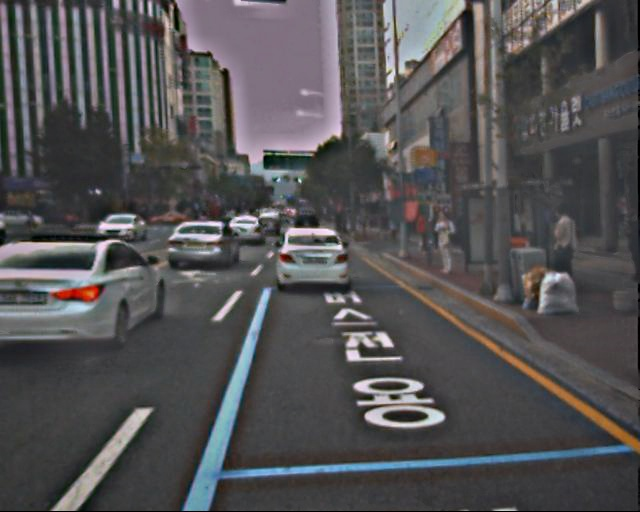person: (543, 205, 581, 297), (430, 209, 459, 280), (414, 207, 434, 255)
